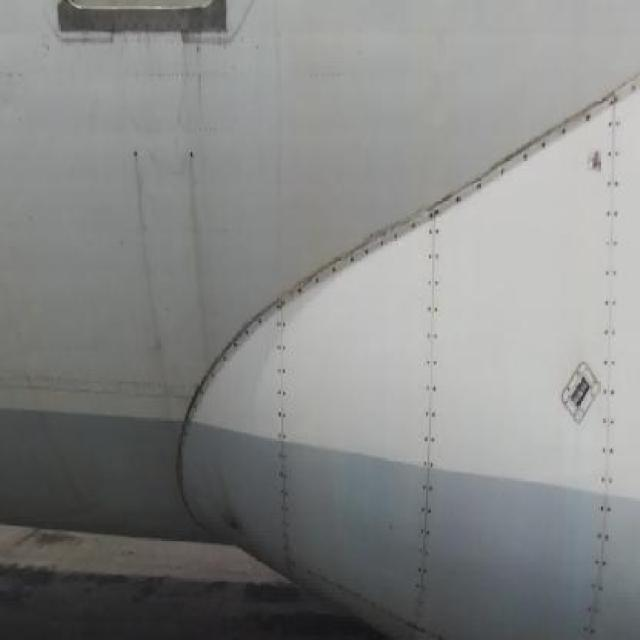Rust: (411, 6, 640, 31), (592, 576, 640, 627)
Scartch: (24, 262, 407, 298)
